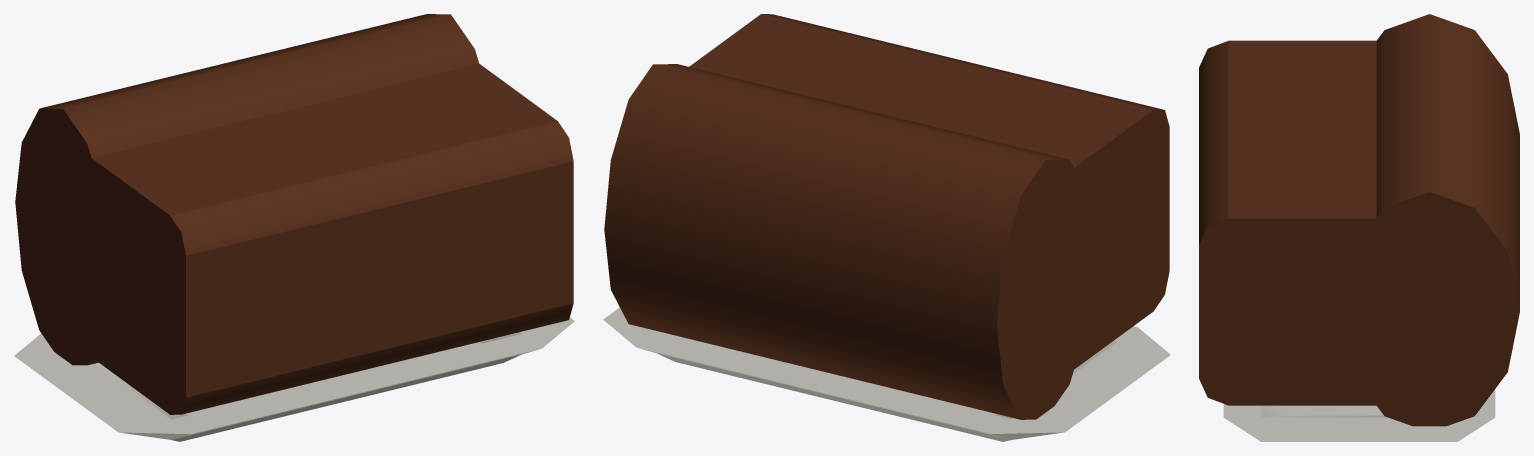
Rendered from meatloaf.glb.
The picture shows the model from 3 angles, left to right: view 1: azimuth 30°, elevation 25°; view 2: azimuth 150°, elevation 25°; view 3: azimuth 270°, elevation 25°; orthographic projection. The views are drawn at different scales.
Visible parts, largest first — view 1: meatloaf; view 2: meatloaf; view 3: meatloaf.
Boxes of the visible parts, bbox=[...] form: meatloaf: bbox=[14, 14, 574, 441]; meatloaf: bbox=[603, 14, 1170, 441]; meatloaf: bbox=[1199, 14, 1519, 441].
Size of the model in its own units: 0.62 by 0.3621 by 0.4018.
